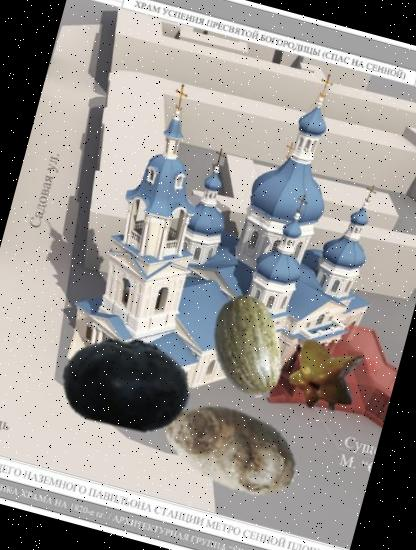Blueberry: (47, 304, 206, 462)
Carambula: (280, 330, 372, 422)
Ginger: (146, 364, 318, 534)
Melon: (183, 284, 310, 411)
